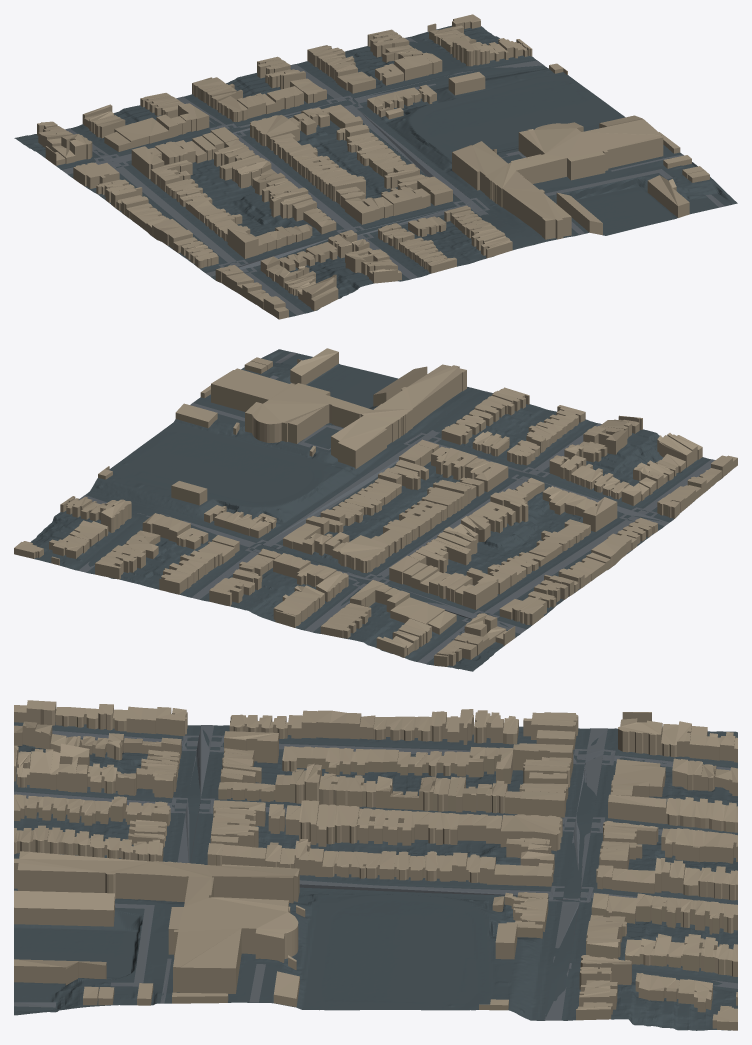
The model's file is epsg26910-1418-10888.lod0.glb.
3 renders of one model, top to bottom at view 1: azimuth 30°, elevation 25°; view 2: azimuth 150°, elevation 25°; view 3: azimuth 270°, elevation 25°, orthographic. The views are drawn at different scales.
Visible parts, largest first — view 1: epsg26910-1418-10888-lod0; view 2: epsg26910-1418-10888-lod0; view 3: epsg26910-1418-10888-lod0.
Boxes of the visible parts, left/top/right/bottom form: epsg26910-1418-10888-lod0: left=14, top=14, right=737, bottom=319; epsg26910-1418-10888-lod0: left=14, top=348, right=737, bottom=671; epsg26910-1418-10888-lod0: left=14, top=700, right=737, bottom=1030.
Size of the model in its own units: 384 by 39.01 by 384.
